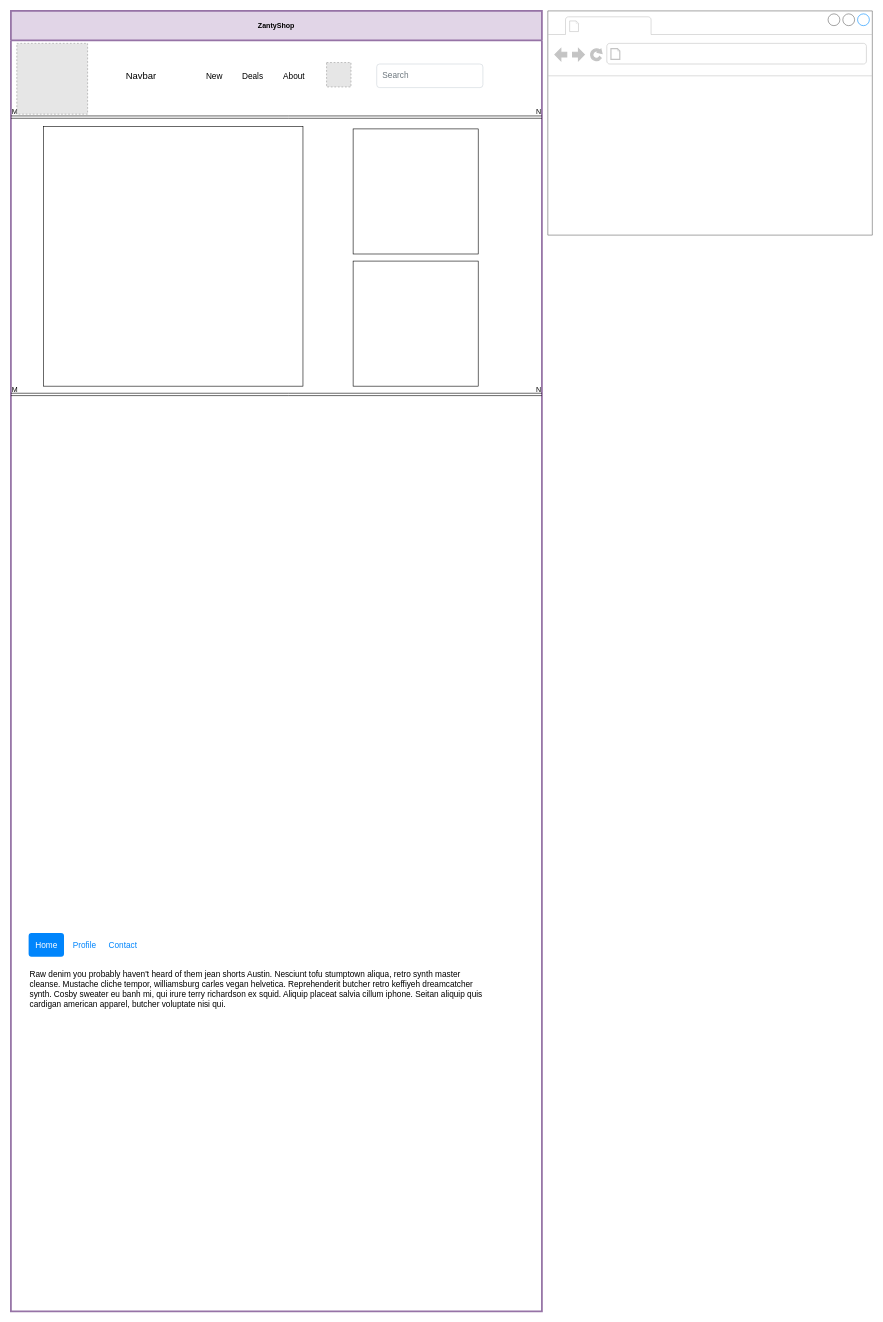
This 883x1322 diagram has some shape labels left out. Grey dashed boxes stand in for pictures. Each missing label, with the centre of its shape:
"https://www.draw.io" belongs at point (698, 54).
"Page 1" belongs at point (615, 25).
